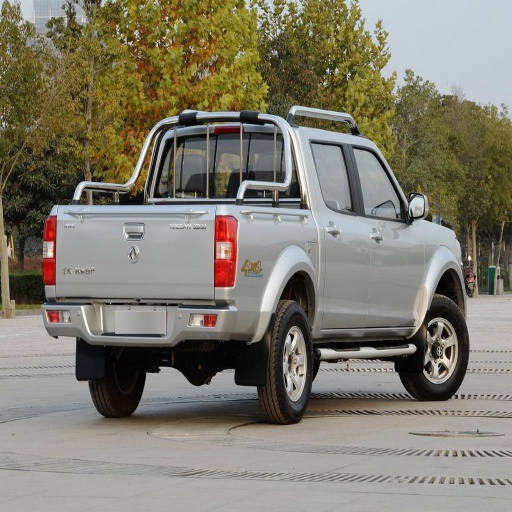back_bumper: (42, 293, 217, 344)
back_right_door: (306, 134, 370, 327)
trunk: (48, 203, 309, 339)
